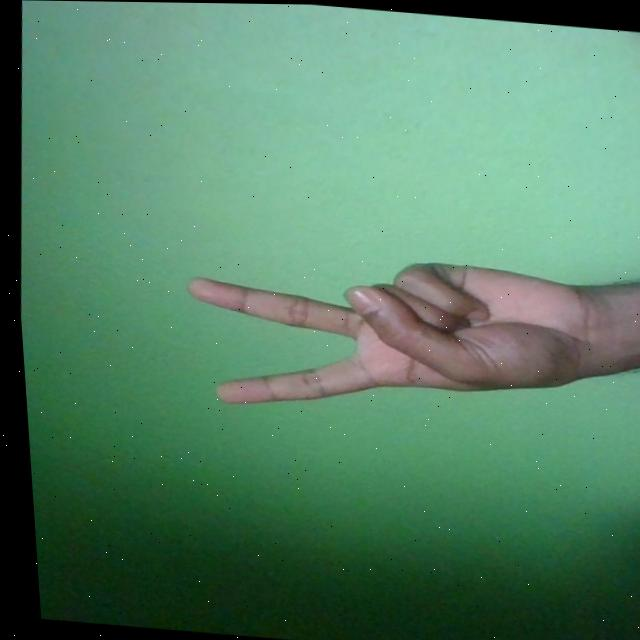Peace: (172, 240, 602, 431)
